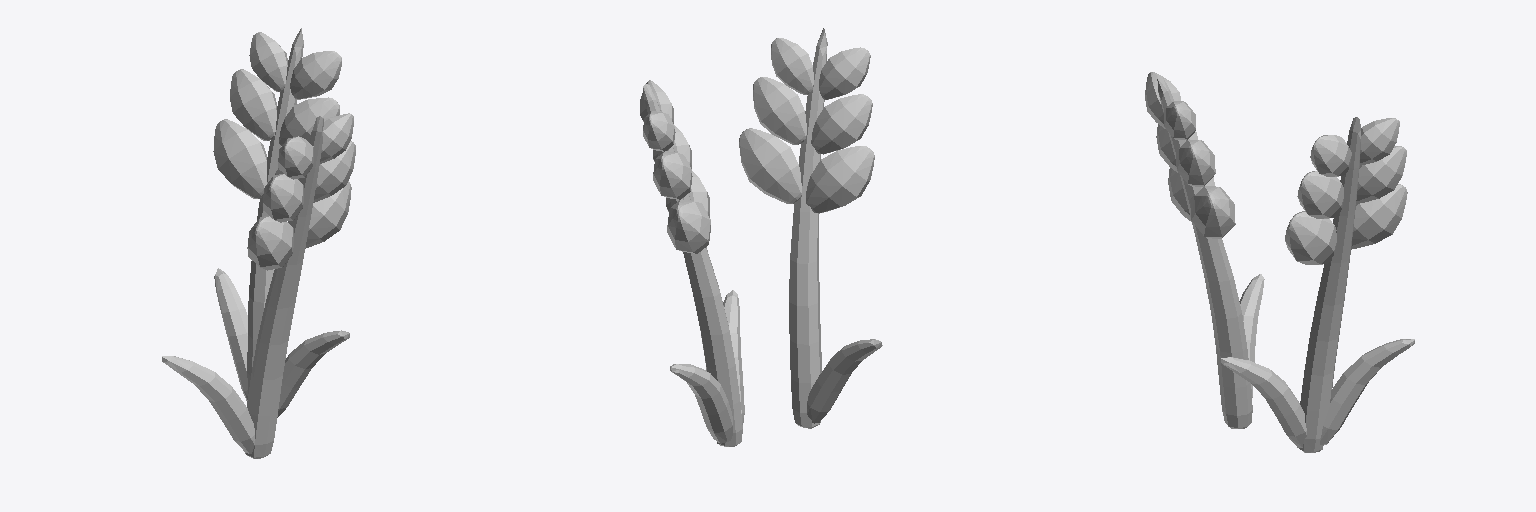
File: wheatStage3.obj
3 views of the same model, side by side, from view 1: azimuth 30°, elevation 25°; view 2: azimuth 150°, elevation 25°; view 3: azimuth 270°, elevation 25° (orthographic).
Parts seen in each view (by area): view 1: WheatStage3; view 2: WheatStage3; view 3: WheatStage3.
Boxes of the visible parts, x1=… form: WheatStage3: x1=162, y1=28, x2=355, y2=458; WheatStage3: x1=640, y1=28, x2=882, y2=446; WheatStage3: x1=1145, y1=72, x2=1414, y2=452.
Size of the model in its own units: 0.4524 by 0.7617 by 0.5097.